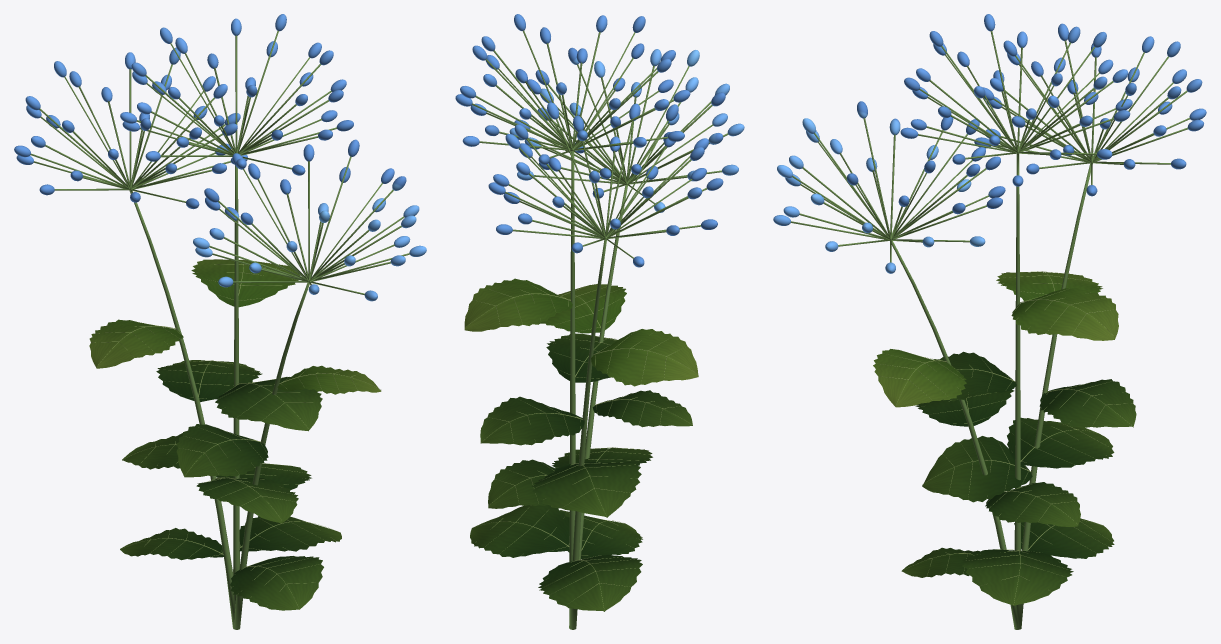
File: hydrangea-08.glb
3 renders of one model, left to right at view 1: azimuth 30°, elevation 25°; view 2: azimuth 150°, elevation 25°; view 3: azimuth 270°, elevation 25°, orthographic.
Visible parts, largest first — view 1: hydrangea_stage_08_leaf_veins.014, hydrangea_stage_08_stem_fibres.014, hydrangea_stage_08_hydrangea_petal.014, hydrangea_stage_08_young_leaf.014, hydrangea_stage_08_raised_midveins.014; view 2: hydrangea_stage_08_leaf_veins.014, hydrangea_stage_08_stem_fibres.014, hydrangea_stage_08_hydrangea_petal.014, hydrangea_stage_08_young_leaf.014, hydrangea_stage_08_raised_midveins.014; view 3: hydrangea_stage_08_leaf_veins.014, hydrangea_stage_08_stem_fibres.014, hydrangea_stage_08_hydrangea_petal.014, hydrangea_stage_08_young_leaf.014, hydrangea_stage_08_raised_midveins.014.
Part boxes in pixels (x1,y1,x2,y2): hydrangea_stage_08_leaf_veins.014: [120, 360, 341, 610]; hydrangea_stage_08_stem_fibres.014: [30, 31, 409, 629]; hydrangea_stage_08_hydrangea_petal.014: [14, 14, 426, 301]; hydrangea_stage_08_young_leaf.014: [89, 259, 381, 394]; hydrangea_stage_08_raised_midveins.014: [91, 259, 380, 607]; hydrangea_stage_08_leaf_veins.014: [470, 333, 692, 611]; hydrangea_stage_08_stem_fibres.014: [472, 30, 728, 629]; hydrangea_stage_08_hydrangea_petal.014: [455, 14, 744, 267]; hydrangea_stage_08_young_leaf.014: [464, 278, 698, 386]; hydrangea_stage_08_raised_midveins.014: [466, 281, 696, 610]; hydrangea_stage_08_leaf_veins.014: [901, 351, 1136, 605]; hydrangea_stage_08_stem_fibres.014: [791, 31, 1189, 629]; hydrangea_stage_08_hydrangea_petal.014: [773, 14, 1206, 273]; hydrangea_stage_08_young_leaf.014: [873, 272, 1118, 407]; hydrangea_stage_08_raised_midveins.014: [878, 271, 1133, 604].
Bounding box in the file's own units: 0.357 × 0.7113 × 0.4752.
Materials: 5 (3 with a texture image).
